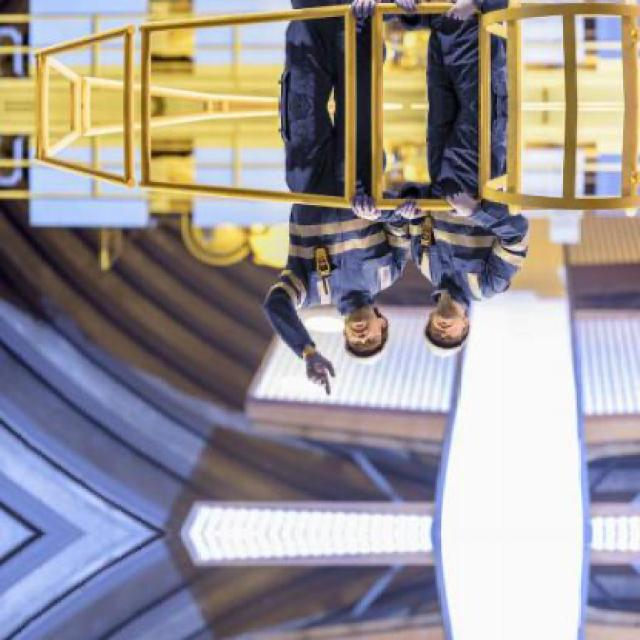con casco: (318, 289, 398, 379)
